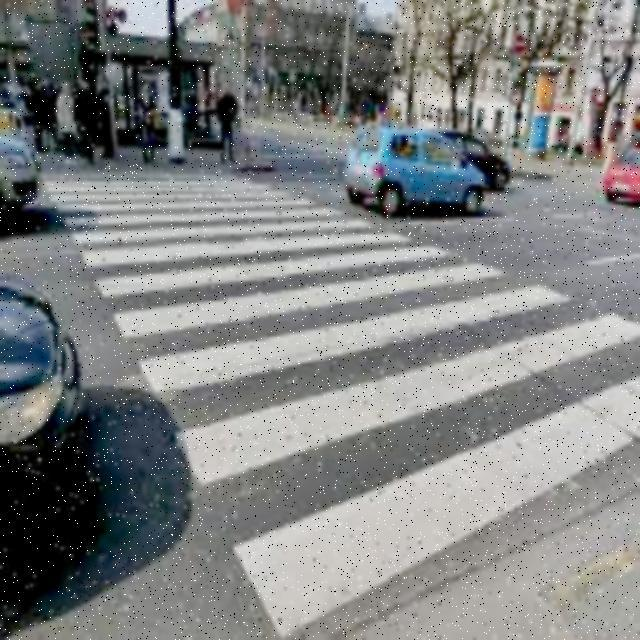crosswalk: (32, 158, 636, 636)
